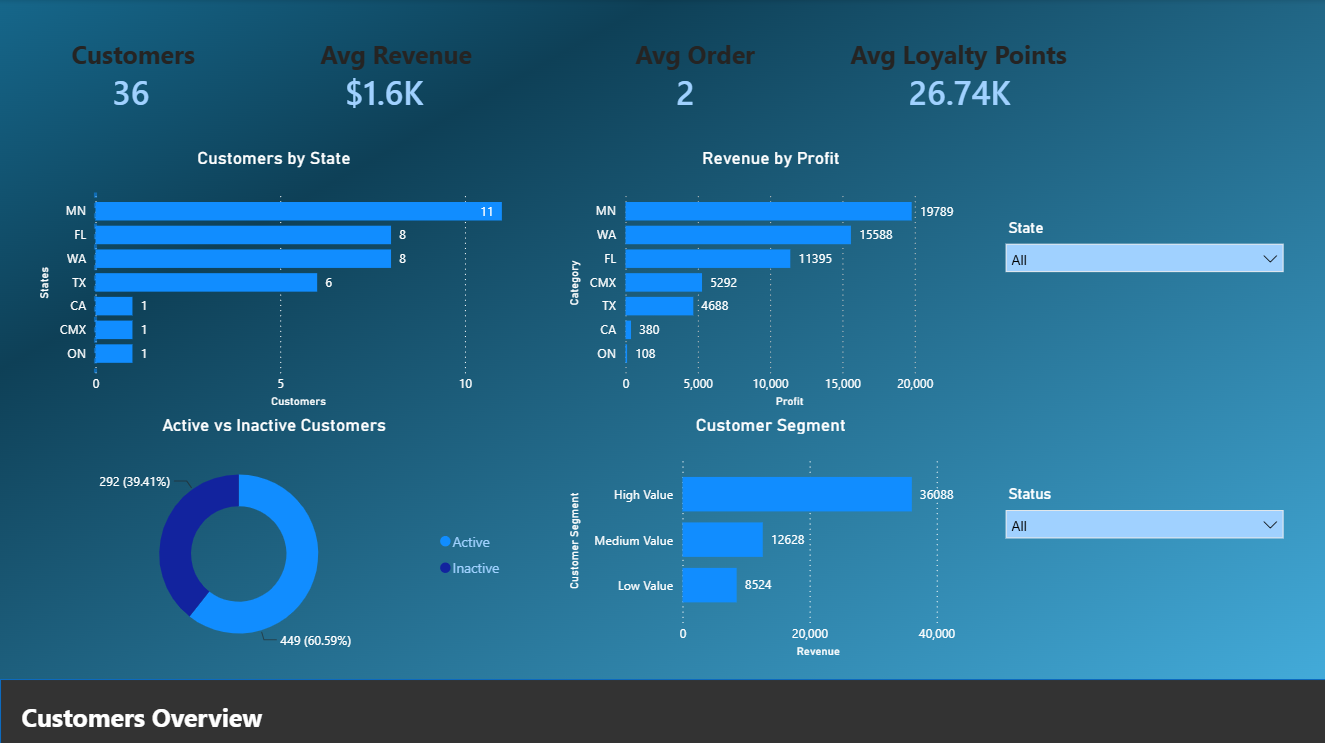

Layout of this report page (visuals, bound fields, positions):
{"tool":"powerbi","page":{"name":"Customer","canvas":[1280,720],"ordinal":2},"visuals":[{"type":"cardVisual","fields":{"Data":["FACT_SALES.Avg Loyalty Points"]},"box":[848,48,192,80],"z":0},{"type":"cardVisual","fields":{"Data":["FACT_SALES.Customers"]},"box":[80,48,192,80],"z":1000},{"type":"cardVisual","fields":{"Data":["FACT_SALES.Avg Orders per Customer"]},"box":[624,48,192,80],"z":2000},{"type":"cardVisual","fields":{"Data":["FACT_SALES.Avg Revenue per Customer"]},"box":[304,48,192,80],"z":3000},{"type":"textbox","box":[64,32,192,48],"z":4000},{"type":"textbox","box":[816,32,240,48],"z":5000},{"type":"textbox","box":[608,32,160,48],"z":6000},{"type":"textbox","box":[304,32,192,48],"z":7000},{"type":"barChart","title":"Customers by State","fields":{"Category":["DIM_CUSTOMER.STATE"],"Y":["FACT_SALES.Customers"]},"box":[32,144,464,256],"z":8000},{"type":"barChart","title":"Revenue by Profit","fields":{"Y":["FACT_SALES.Total Revenue"],"Category":["DIM_CUSTOMER.STATE"]},"box":[544,144,400,256],"z":9000},{"type":"donutChart","title":"Active vs Inactive Customers","fields":{"Y":["Sum(DIM_CUSTOMER.CUSTOMER_KEY)"],"Category":["DIM_CUSTOMER.Customer Status"]},"box":[32,400,464,240],"z":10000},{"type":"barChart","title":"Customer Segment","fields":{"Category":["DIM_CUSTOMER.Customer Segment"],"Y":["FACT_SALES.Total Revenue"]},"box":[544,400,400,240],"z":11000},{"type":"slicer","fields":{"Values":["DIM_CUSTOMER.STATE"]},"box":[960,208,288,80],"z":12000},{"type":"slicer","fields":{"Values":["DIM_CUSTOMER.Customer Status"]},"box":[960,464,288,80],"z":13000},{"type":"shape","box":[0,656,1280,64],"z":14000},{"type":"textbox","box":[16,672,432,48],"z":15000}]}

Visuals, with their boxes in screenshot pixels (x1, y1, x2, y2), scaled from the page's 1280x720 canvas onto the 1325x743 screenshot:
cardVisual - FACT_SALES.Avg Loyalty Points: 878, 50, 1077, 132
cardVisual - FACT_SALES.Customers: 83, 50, 282, 132
cardVisual - FACT_SALES.Avg Orders per Customer: 646, 50, 845, 132
cardVisual - FACT_SALES.Avg Revenue per Customer: 315, 50, 513, 132
textbox: 66, 33, 265, 83
textbox: 845, 33, 1093, 83
textbox: 629, 33, 795, 83
textbox: 315, 33, 513, 83
"Customers by State" barChart: 33, 149, 513, 413
"Revenue by Profit" barChart: 563, 149, 977, 413
"Active vs Inactive Customers" donutChart: 33, 413, 513, 660
"Customer Segment" barChart: 563, 413, 977, 660
slicer - DIM_CUSTOMER.STATE: 994, 215, 1292, 297
slicer - DIM_CUSTOMER.Customer Status: 994, 479, 1292, 561
shape: 0, 677, 1324, 742
textbox: 17, 693, 464, 742
